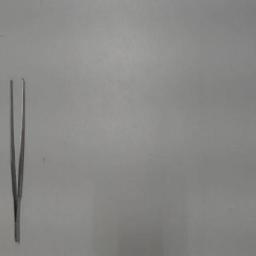Gillies Toothed Dissector: (8, 72, 28, 244)
